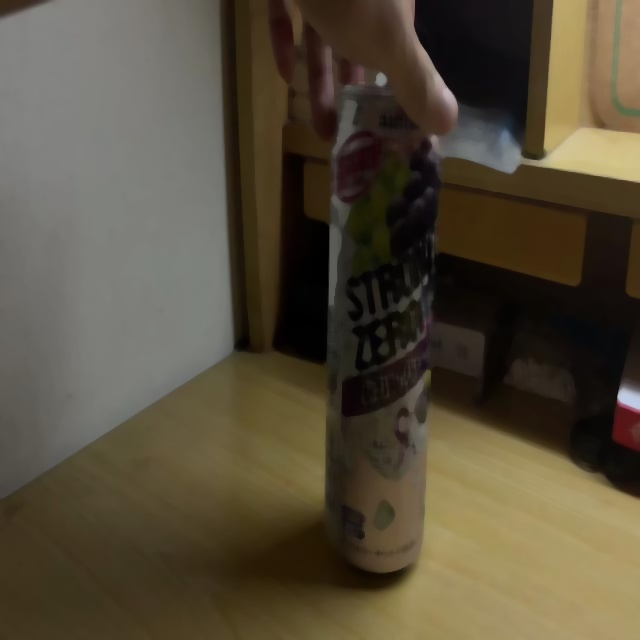Liquor: (323, 82, 441, 579)
